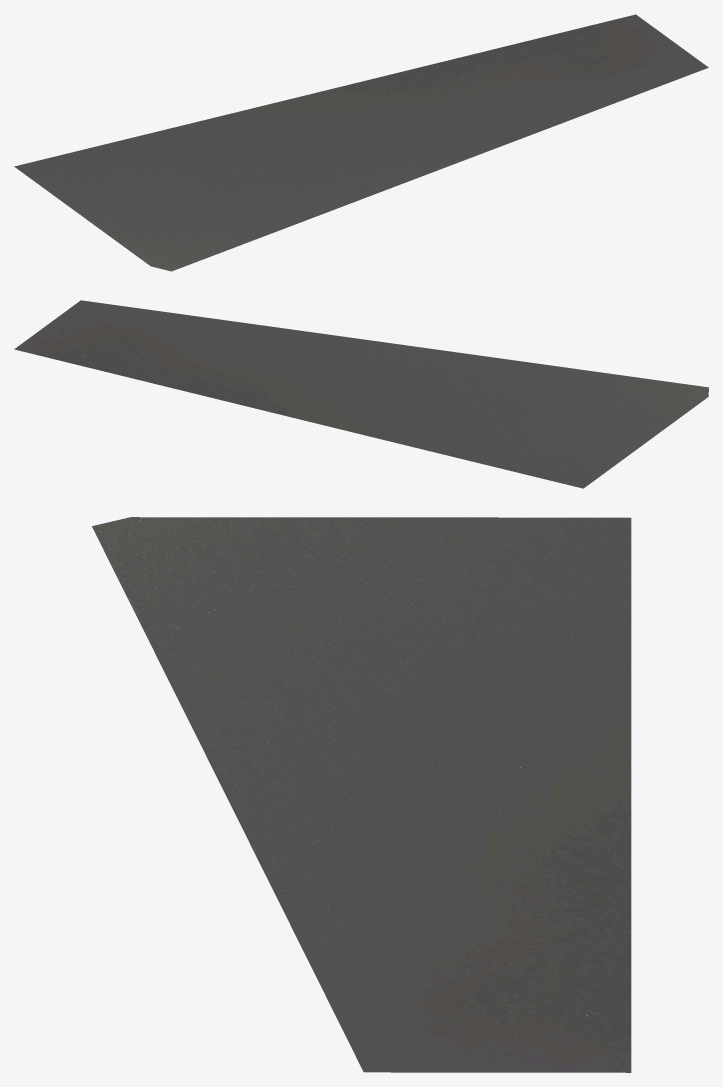
The model's file is CM_Terrain_24492302_6813566.fbx.
3 renders of one model, top to bottom at view 1: azimuth 30°, elevation 25°; view 2: azimuth 150°, elevation 25°; view 3: azimuth 270°, elevation 25°, orthographic. The views are drawn at different scales.
Visible parts, largest first — view 1: CM_Terrain_24492302_6813566_LOD0; view 2: CM_Terrain_24492302_6813566_LOD0; view 3: CM_Terrain_24492302_6813566_LOD0.
Part boxes in pixels (x1,y1,x2,y2): CM_Terrain_24492302_6813566_LOD0: (14, 14, 708, 271); CM_Terrain_24492302_6813566_LOD0: (14, 300, 708, 488); CM_Terrain_24492302_6813566_LOD0: (92, 517, 631, 1072).
Size of what is drawn, in the model's own units: 205 by 0.1969 by 84.01.
